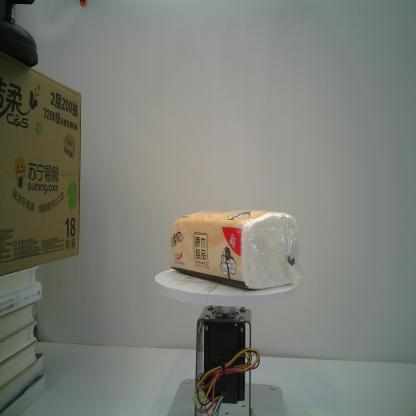Tissue: (167, 208, 303, 292)
